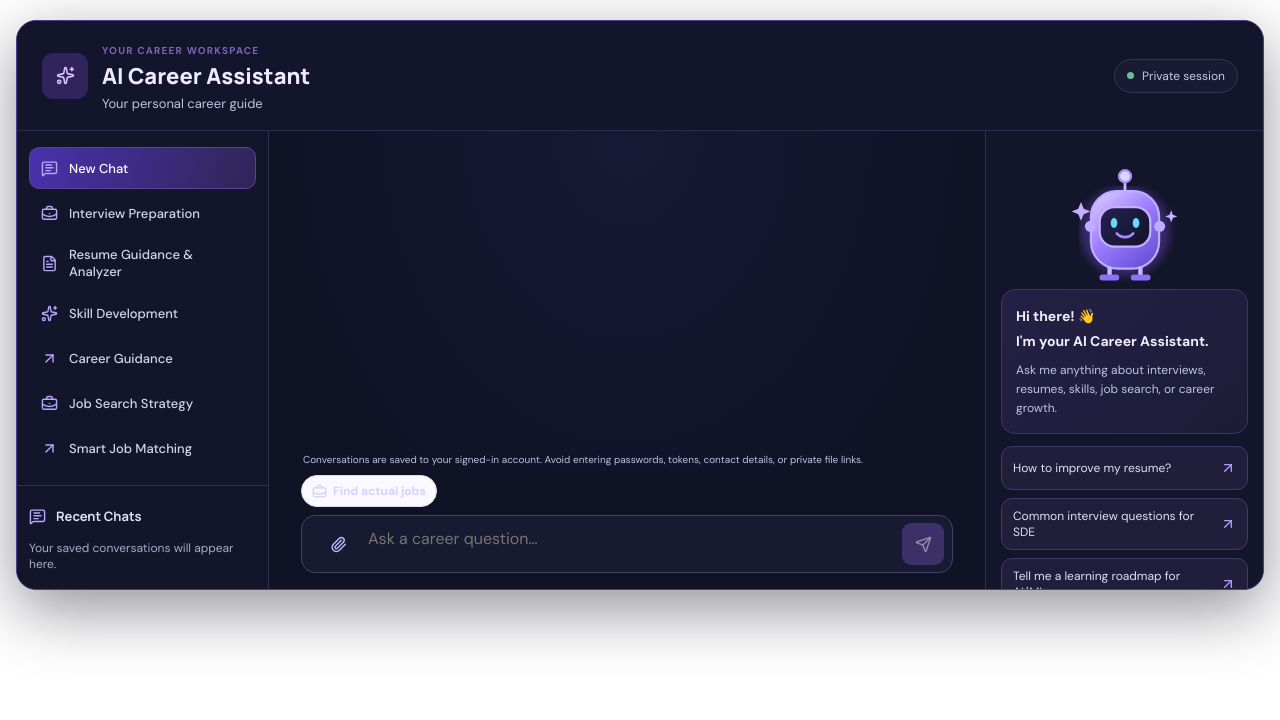
Test case: CareerAssistant › shows safe backend errors and makes no profile or file requests
This screenshot has width=1280, height=720.
Type "Help me with my resume" into the text box named "Message the career assistant".
click(630, 544); type("Help me with my resume")  # box [366,525,895,563]
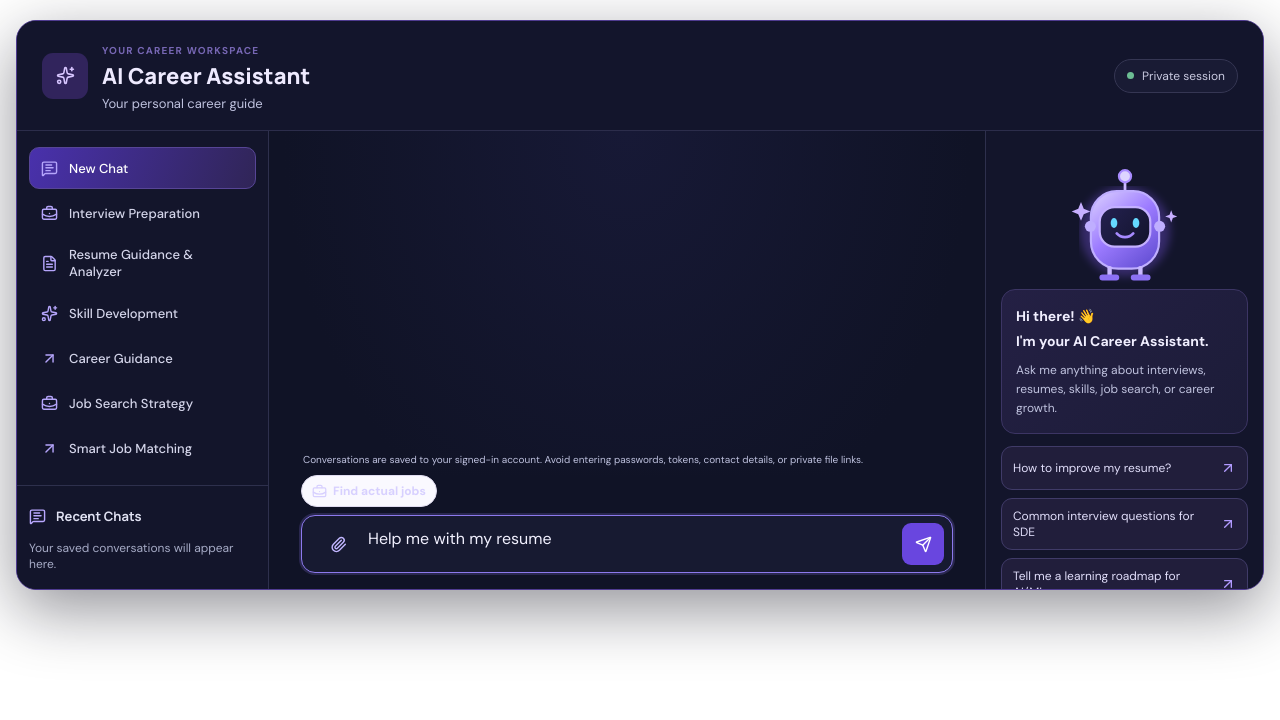
Press Enter
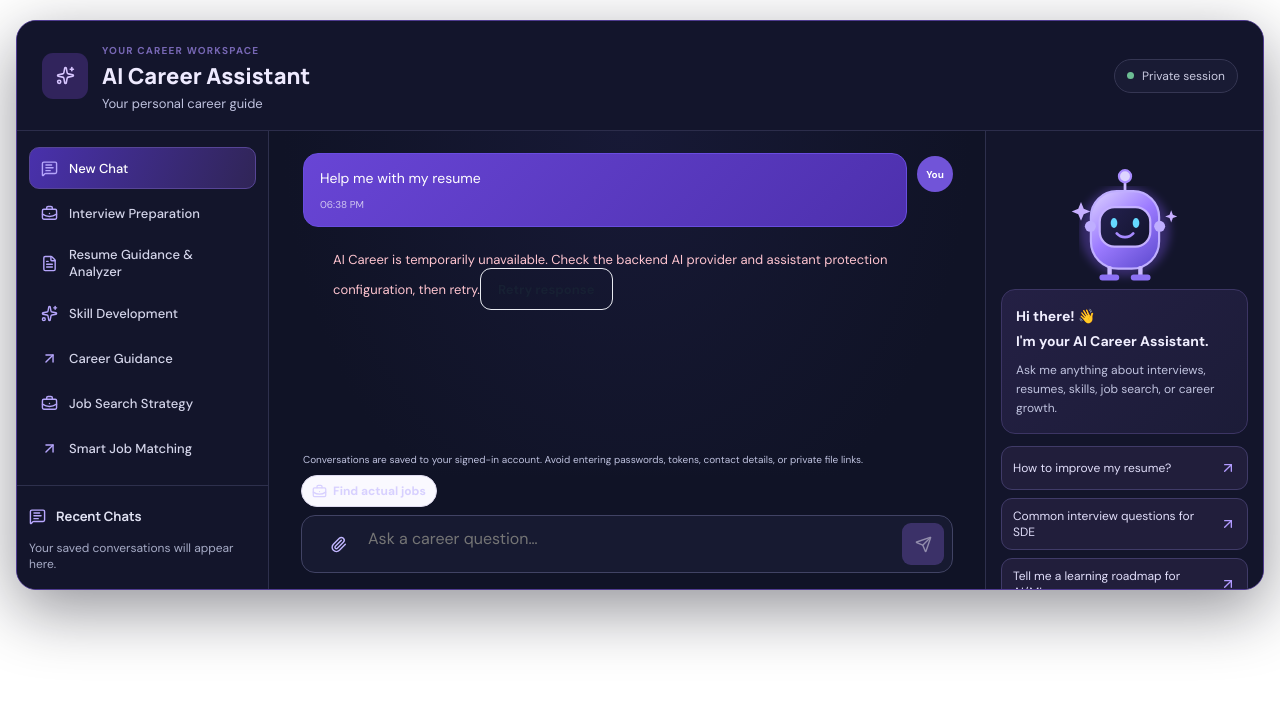
Check: the message shows "AI Career is temporarily unavailable", box [333,251,887,298]
